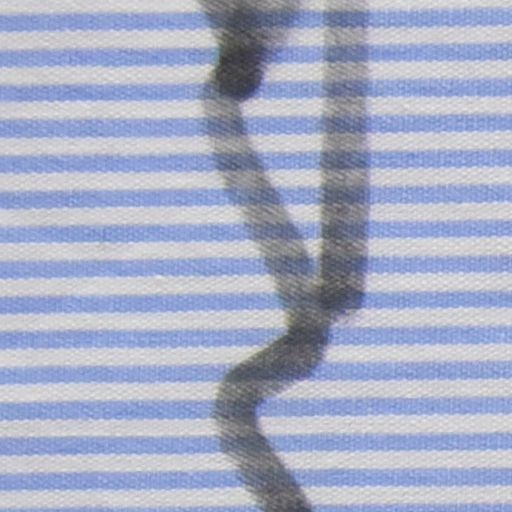defect: (196, 1, 374, 509)
